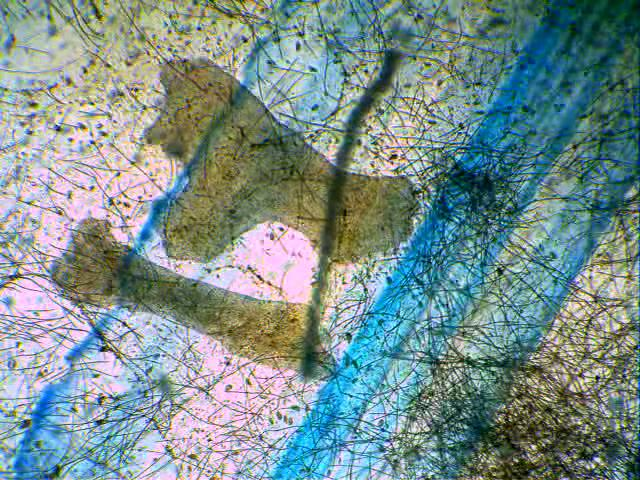Placozoan: (143, 57, 423, 263), (49, 217, 337, 381)
